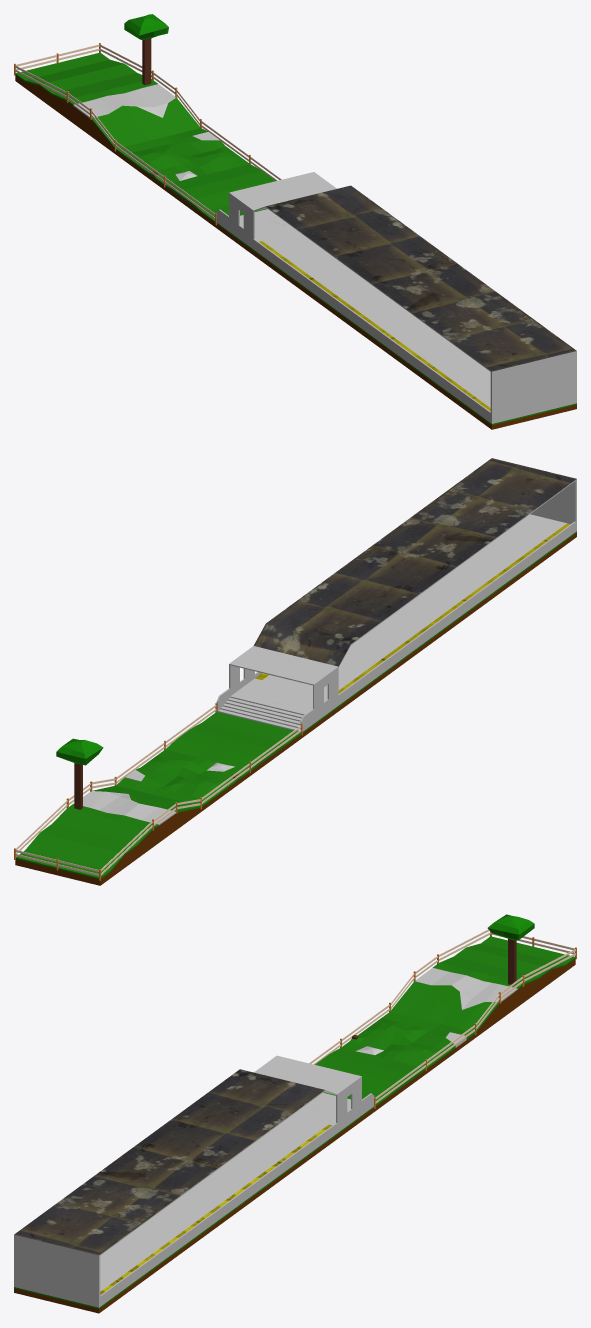
The model's file is BUNKER.fbx.
The picture shows the model from 3 angles, top to bottom: view 1: azimuth 30°, elevation 25°; view 2: azimuth 150°, elevation 25°; view 3: azimuth 330°, elevation 25°; orthographic projection.
Visible parts, largest first — view 1: Terrain, Pillar; view 2: Terrain, Pillar; view 3: Terrain, Pillar.
Part boxes in pixels (x1,y1,x2,y2): Terrain: (15, 14, 576, 429); Pillar: (14, 43, 281, 225); Terrain: (15, 458, 576, 885); Pillar: (14, 703, 302, 880); Terrain: (14, 914, 575, 1313); Pillar: (309, 929, 576, 1108).
Bounding box in the file's own units: 4320 × 3894 × 38850.
